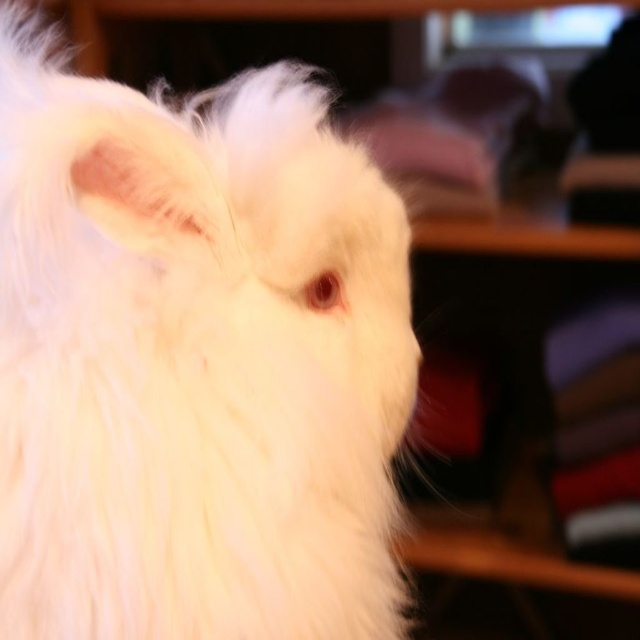Rabbit: (0, 0, 479, 640)
